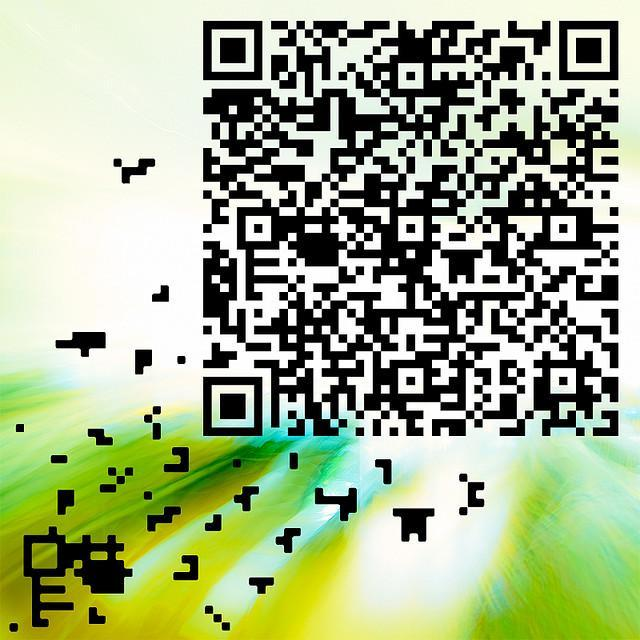qrcode: (204, 22, 618, 436)
